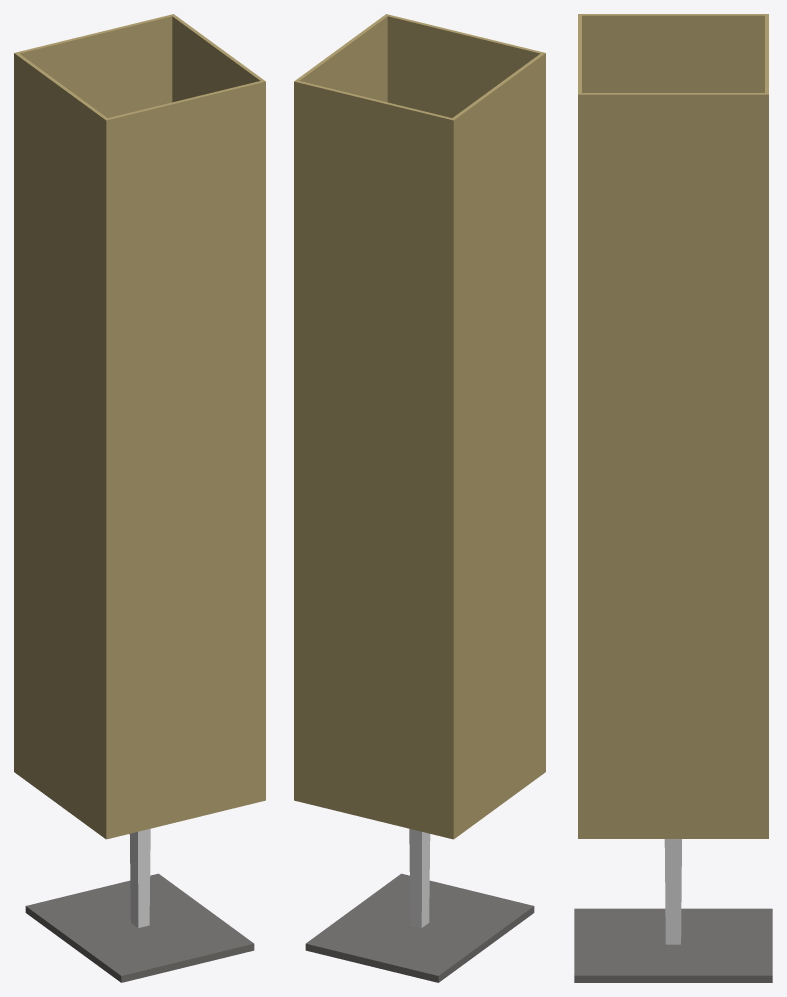
Rendered from Column Floor Lamp.fbx.
3 renders of one model, left to right at view 1: azimuth 30°, elevation 25°; view 2: azimuth 150°, elevation 25°; view 3: azimuth 270°, elevation 25°, orthographic. The views are drawn at different scales.
Parts seen in each view (by area): view 1: Cube; view 2: Cube; view 3: Cube.
Part boxes in pixels (x1,y1,x2,y2): Cube: [14, 14, 265, 982]; Cube: [294, 14, 545, 982]; Cube: [574, 14, 772, 982].
Bounding box in the file's own units: 158 × 819 × 164.
